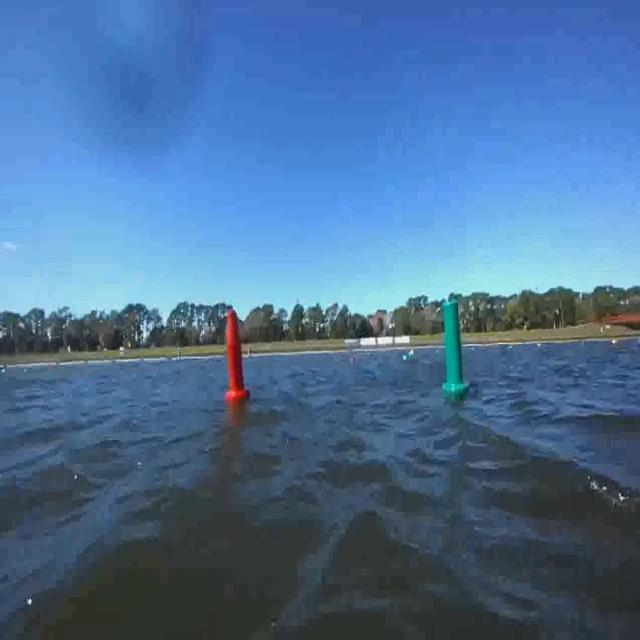green-column-buoy: (442, 300, 469, 396)
red-column-buoy: (225, 307, 250, 402)
